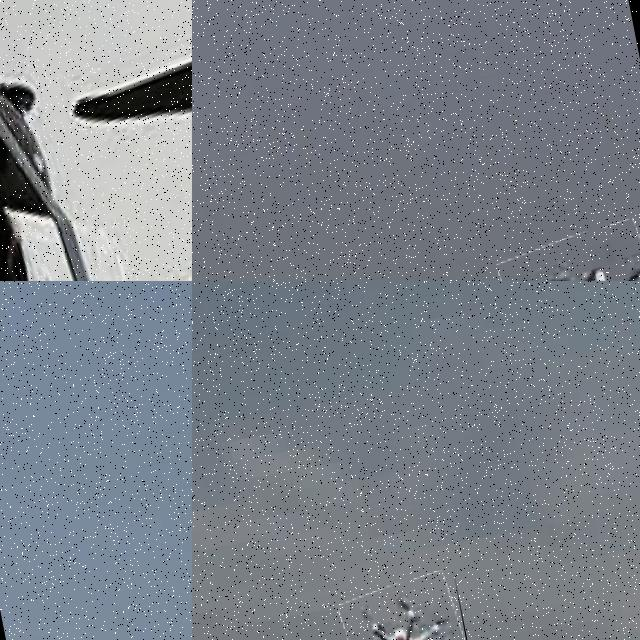drone: (0, 0, 192, 281), (338, 571, 476, 640), (497, 219, 640, 281)
